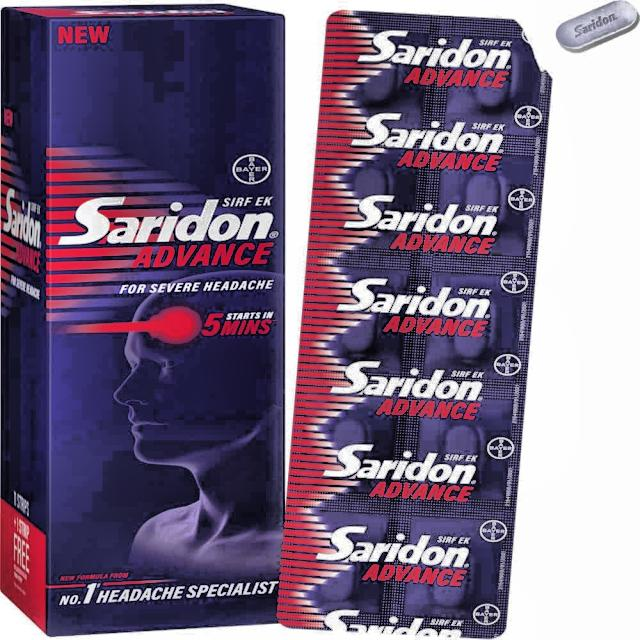Saridon: (279, 11, 549, 628), (53, 23, 278, 615)
